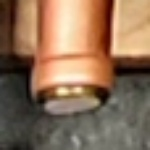bottle: (11, 36, 132, 134)
